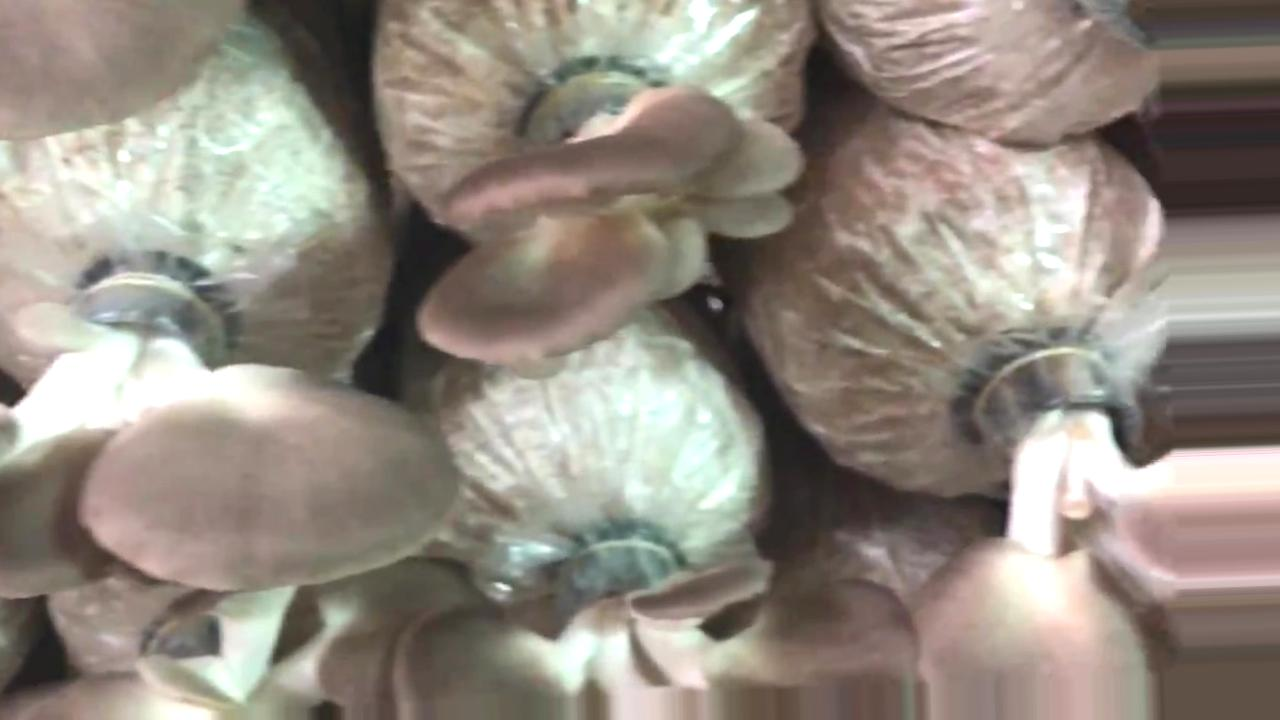nam: (1, 238, 464, 597), (411, 52, 799, 364), (917, 339, 1280, 670), (396, 532, 927, 702), (1, 3, 257, 150)
